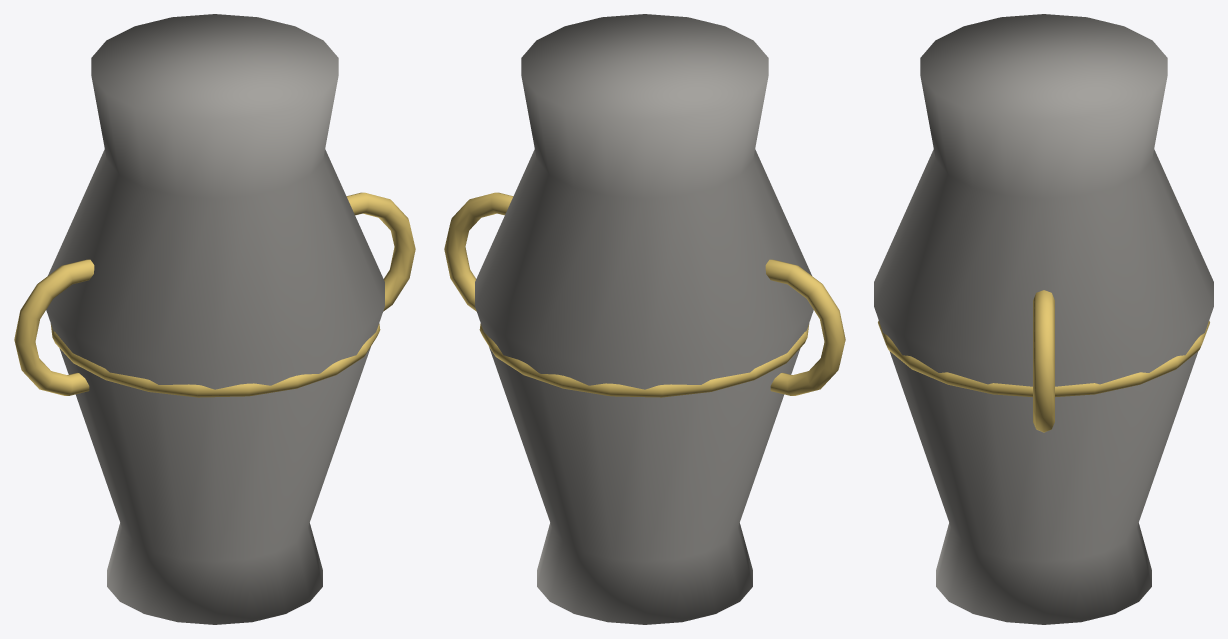
The model's file is urn_funerary_tall.glb.
The picture shows the model from 3 angles, left to right: view 1: azimuth 30°, elevation 25°; view 2: azimuth 150°, elevation 25°; view 3: azimuth 270°, elevation 25°; orthographic projection.
Visible parts, largest first — view 1: GD_urn_funerary_tall__m0, GD_urn_funerary_tall__m1; view 2: GD_urn_funerary_tall__m0, GD_urn_funerary_tall__m1; view 3: GD_urn_funerary_tall__m0, GD_urn_funerary_tall__m1.
Part boxes in pixels (x1=…): GD_urn_funerary_tall__m0: x1=46, y1=14, x2=384, y2=624; GD_urn_funerary_tall__m1: x1=14, y1=192, x2=415, y2=397; GD_urn_funerary_tall__m0: x1=475, y1=14, x2=813, y2=624; GD_urn_funerary_tall__m1: x1=444, y1=192, x2=845, y2=397; GD_urn_funerary_tall__m0: x1=874, y1=14, x2=1213, y2=624; GD_urn_funerary_tall__m1: x1=878, y1=290, x2=1209, y2=432.
Bounding box in the file's own units: 0.294 × 0.36 × 0.2167.
